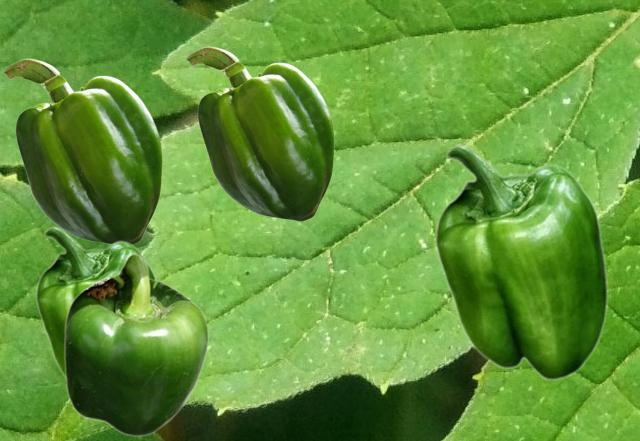bell_pepper: (434, 144, 608, 380), (2, 58, 161, 244), (63, 253, 208, 436), (185, 46, 333, 220), (35, 226, 156, 377)
